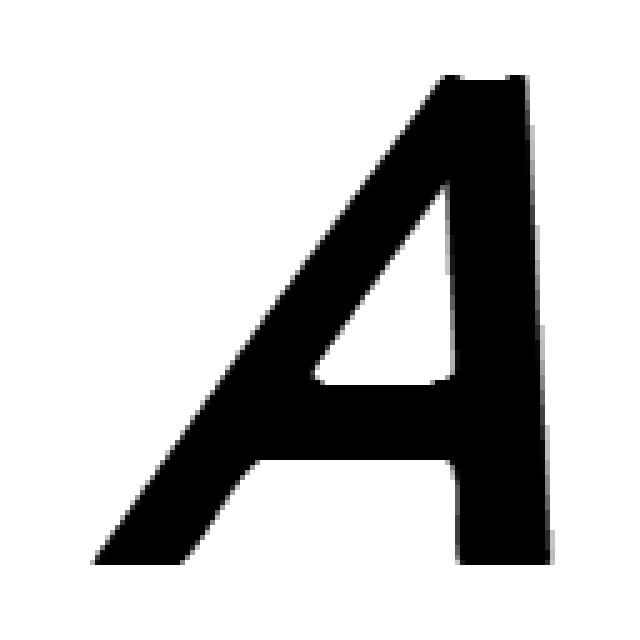A: (85, 65, 560, 575)
